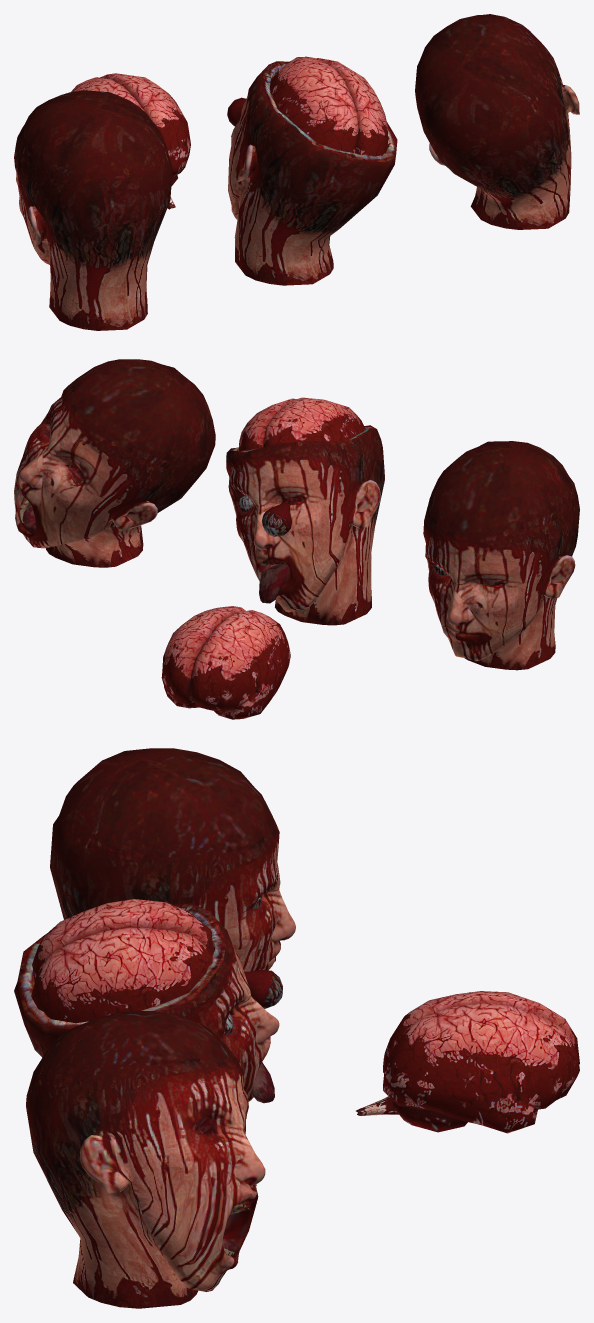
File: Humanheads.fbx
The picture shows the model from 3 angles, top to bottom: view 1: azimuth 30°, elevation 25°; view 2: azimuth 150°, elevation 25°; view 3: azimuth 270°, elevation 25°; orthographic projection. The views are drawn at different scales.
Parts seen in each view (by area): view 1: HumanHead03, HumanHead01, HumanHead02, HumanBrain; view 2: HumanHead02, HumanHead03, HumanHead01, HumanBrain; view 3: HumanHead02, HumanHead03, HumanHead01, HumanBrain.
Boxes of the visible parts, x1,y1,x2,y2 form: HumanHead03: (14, 90, 172, 330); HumanHead01: (227, 56, 397, 285); HumanHead02: (415, 14, 579, 229); HumanBrain: (71, 73, 190, 209); HumanHead02: (14, 359, 215, 567); HumanHead03: (423, 441, 579, 670); HumanHead01: (226, 397, 384, 625); HumanBrain: (161, 606, 290, 719); HumanHead02: (26, 1011, 265, 1308); HumanHead03: (50, 748, 295, 971); HumanHead01: (14, 899, 282, 1103); HumanBrain: (356, 991, 579, 1133).
Bounding box in the file's own units: 95.86 × 34.51 × 67.61.
Materials: 2 (2 with a texture image).
